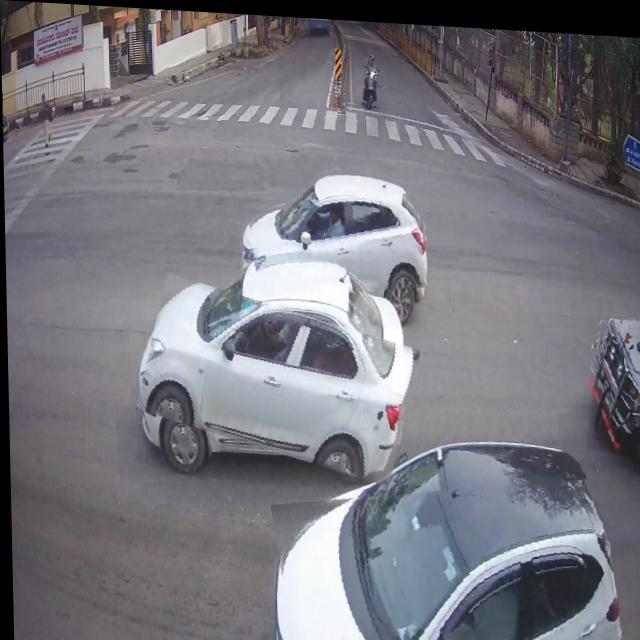Car: (273, 466, 617, 640), (138, 284, 414, 469), (248, 186, 425, 297), (586, 304, 640, 450)
Two-wheelers: (361, 48, 381, 107)
